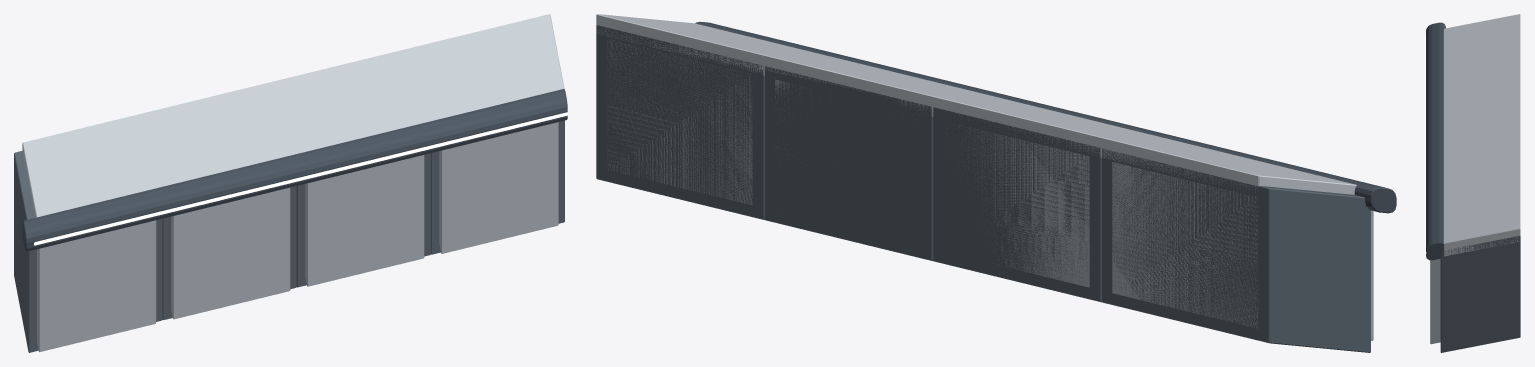
The model's file is Terrain_TopRun4L.gltf.
3 renders of one model, left to right at view 1: azimuth 30°, elevation 25°; view 2: azimuth 150°, elevation 25°; view 3: azimuth 270°, elevation 25°, orthographic. The views are drawn at different scales.
Visible parts, largest first — view 1: Terrain_TopRun4L_baked; view 2: Terrain_TopRun4L_baked; view 3: Terrain_TopRun4L_baked.
Boxes of the visible parts, x1,y1,x2,y2 form: Terrain_TopRun4L_baked: [14, 14, 567, 352]; Terrain_TopRun4L_baked: [596, 14, 1396, 352]; Terrain_TopRun4L_baked: [1425, 14, 1520, 352].
Bounding box in the file's own units: 4.33 × 1.18 × 0.74.
